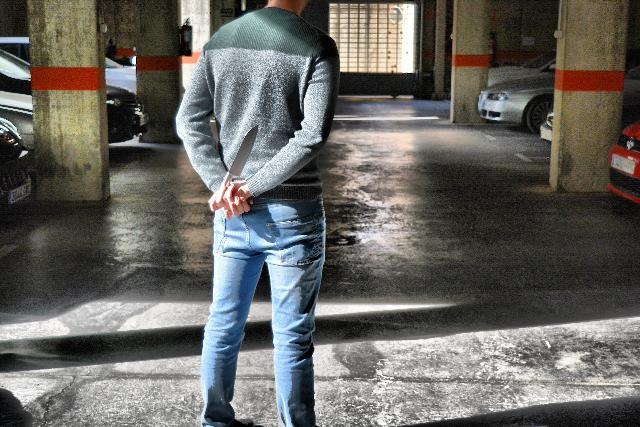knife: (213, 121, 260, 209)
